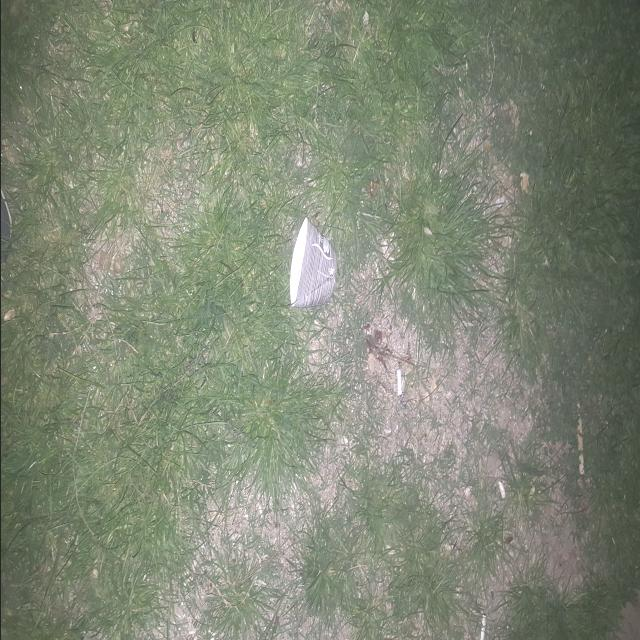Cigarette: (479, 614, 485, 640), (396, 369, 401, 395)
Paper cup: (289, 218, 337, 308)
